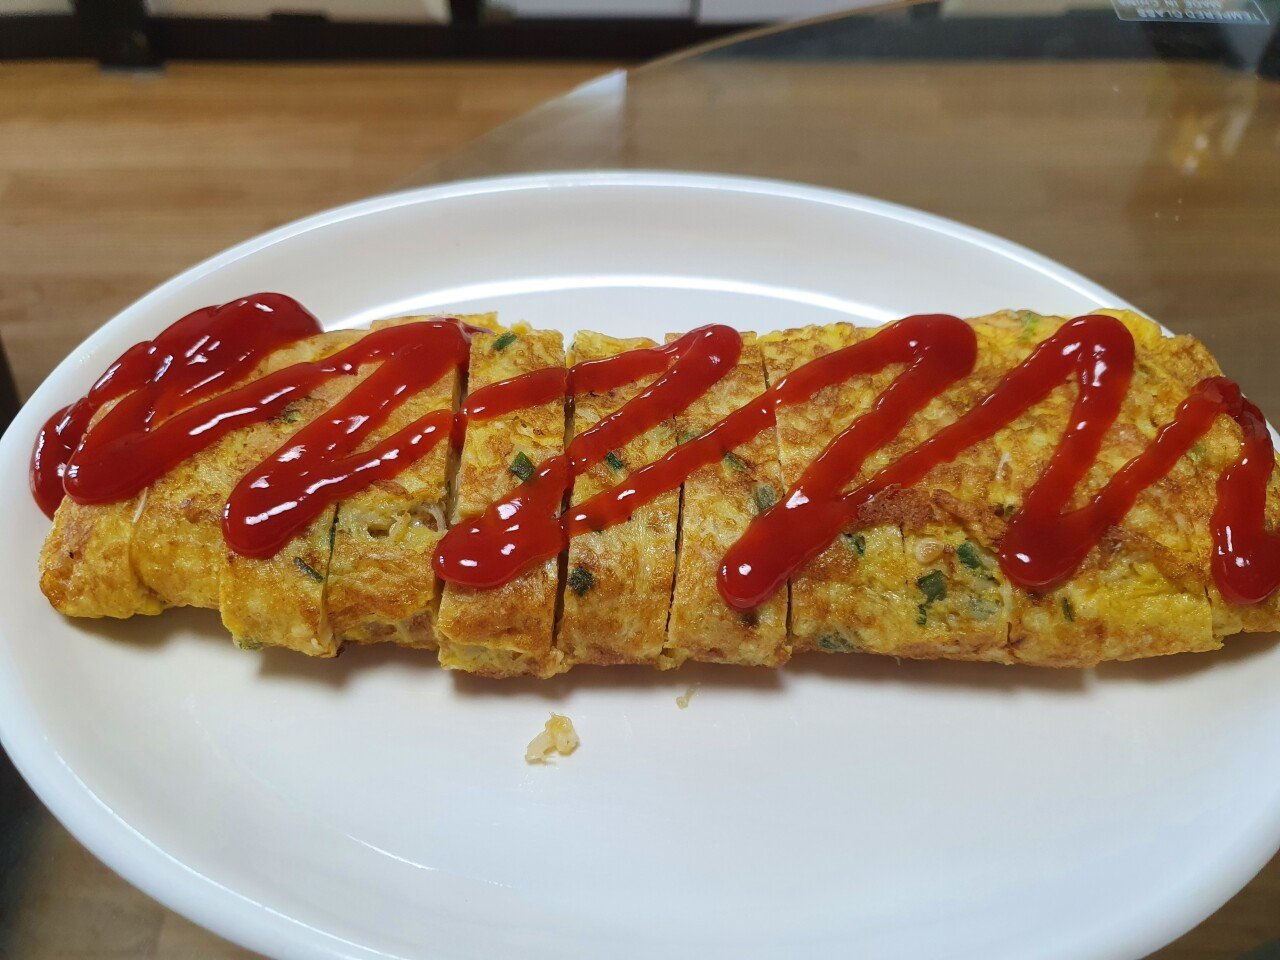gyelanmal-i: (23, 288, 1270, 704)
